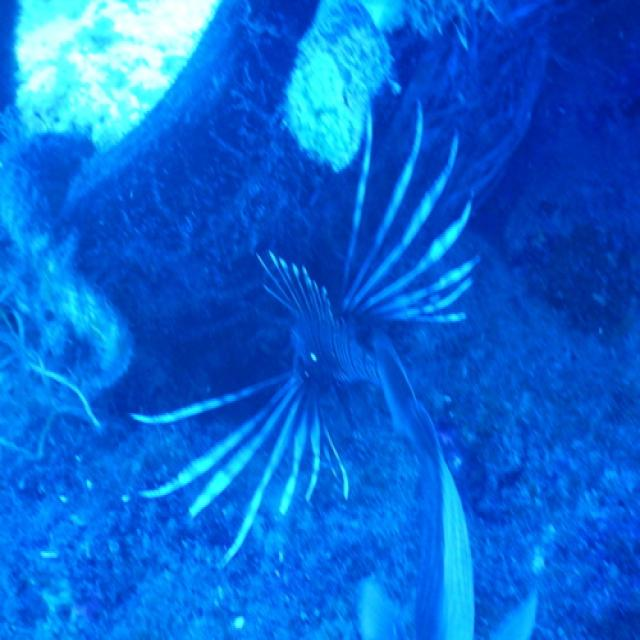Aslan Baligi: (134, 99, 478, 574)
